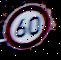Speed Limit -60-: (1, 1, 54, 52)
